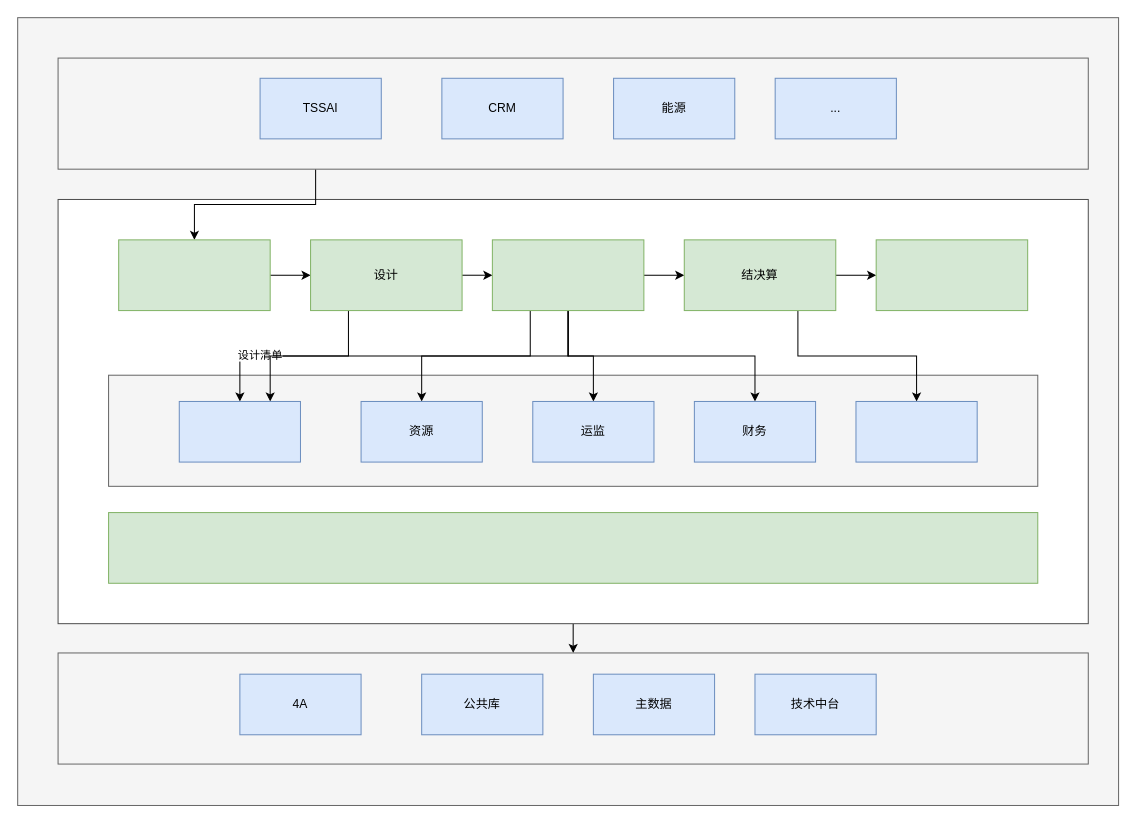
Some shapes in this 1136 by 823 pixel diagram are drawn without their labels. Each missing label, with the centre of its shape:
"商合" goes at point 239,431.
"基础能力（依赖）" goes at point 573,547.
"审计" goes at point 916,431.
"执行" goes at point 567,275.
"立项" goes at point 194,275.
"项目关闭" goes at point 951,275.
